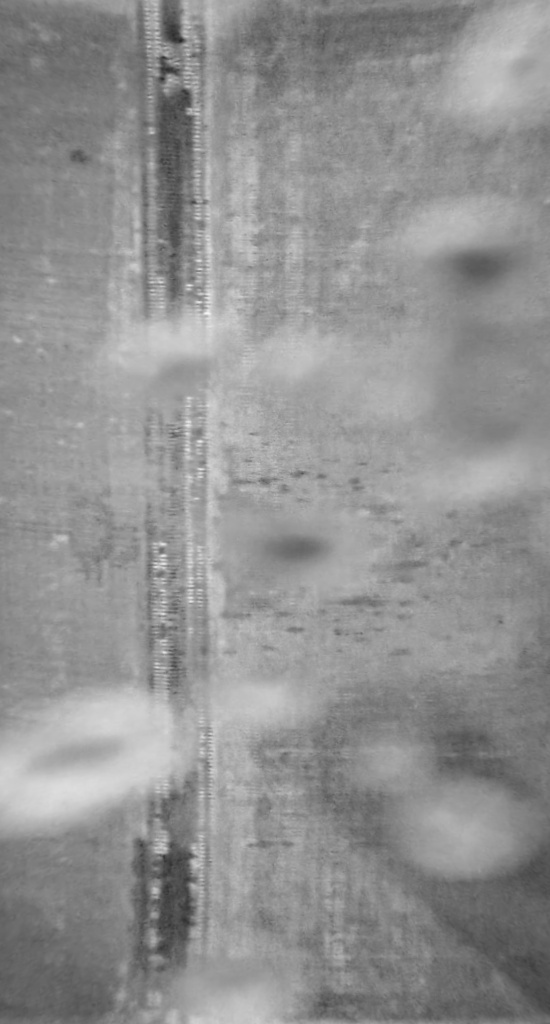splice: (118, 1, 221, 1023)
